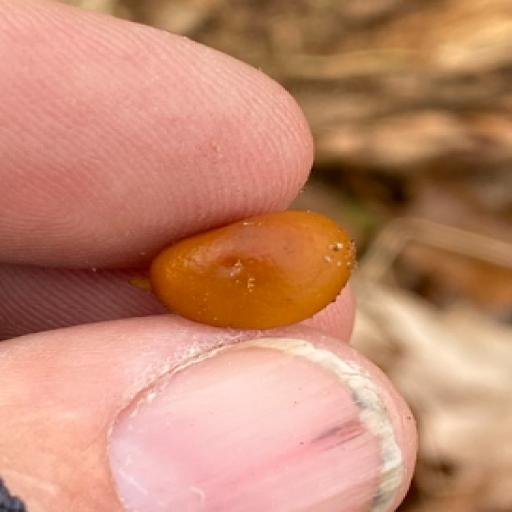mushroom: (154, 200, 366, 338)
